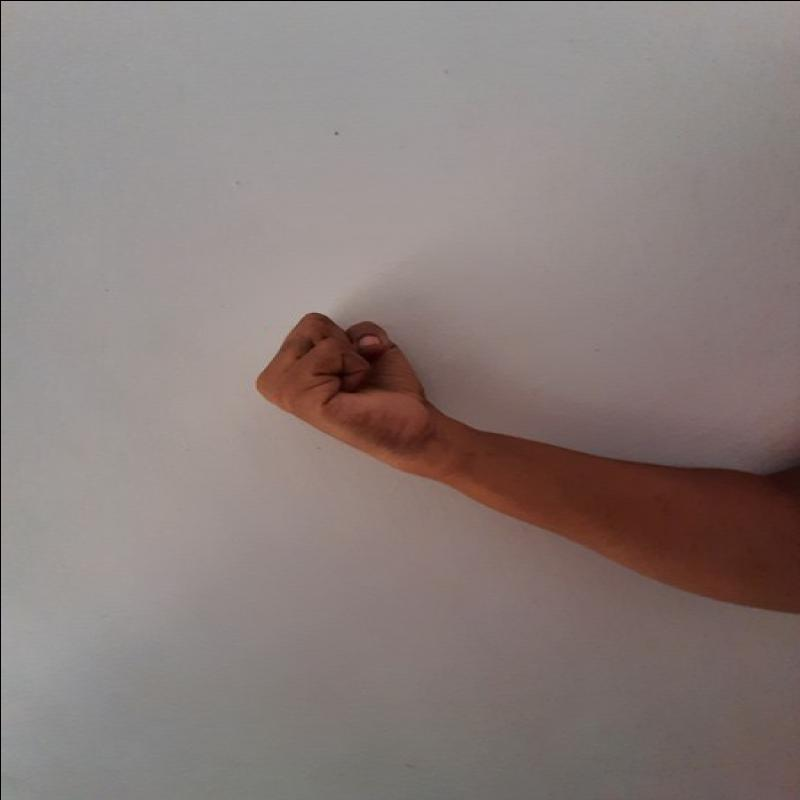Mushti: (247, 296, 439, 488)
